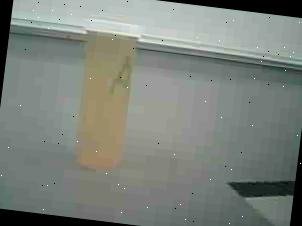Bottle A: (62, 11, 153, 186)
